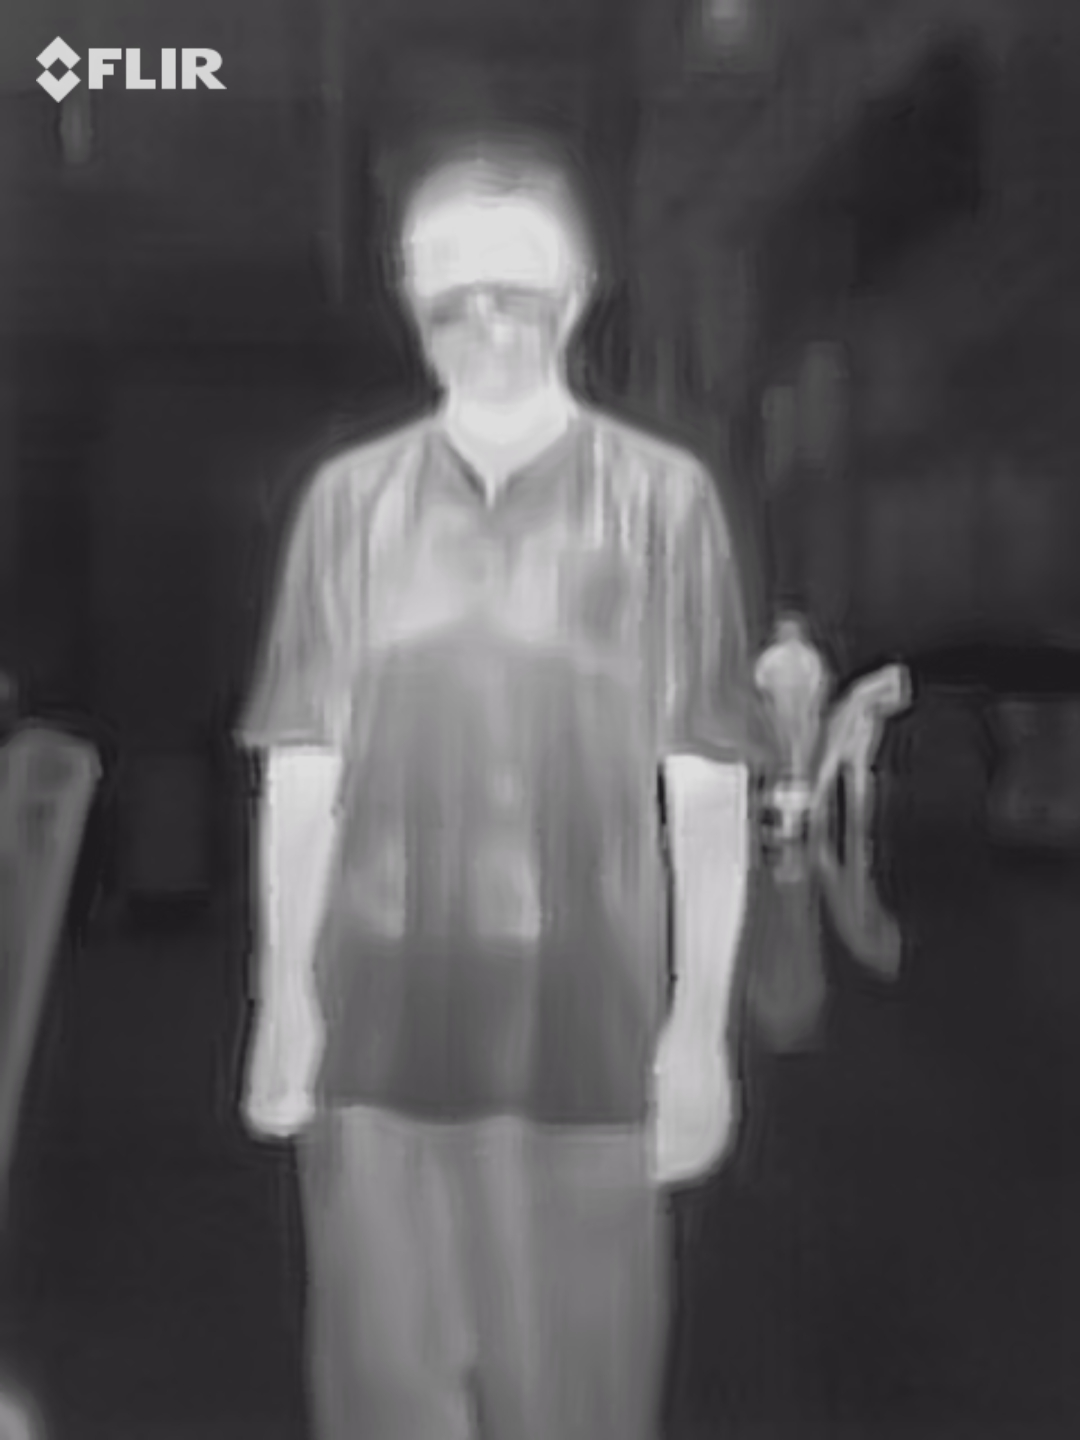head: (402, 153, 591, 416)
